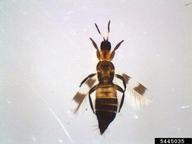Thrips: (70, 19, 157, 136)
